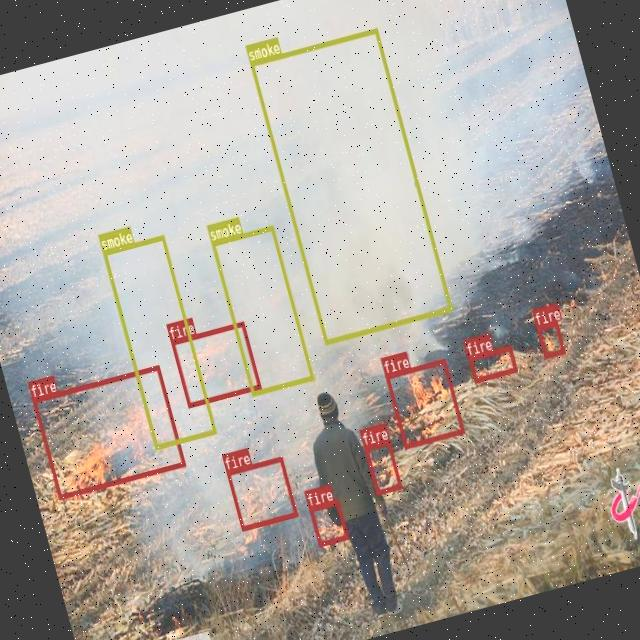fire: (31, 365, 184, 499), (169, 321, 260, 406), (384, 358, 464, 448), (225, 456, 298, 530), (364, 439, 402, 494), (307, 498, 348, 546), (466, 344, 516, 382), (534, 319, 564, 358)
smoke: (249, 27, 451, 344), (101, 234, 216, 448), (210, 224, 314, 394)
